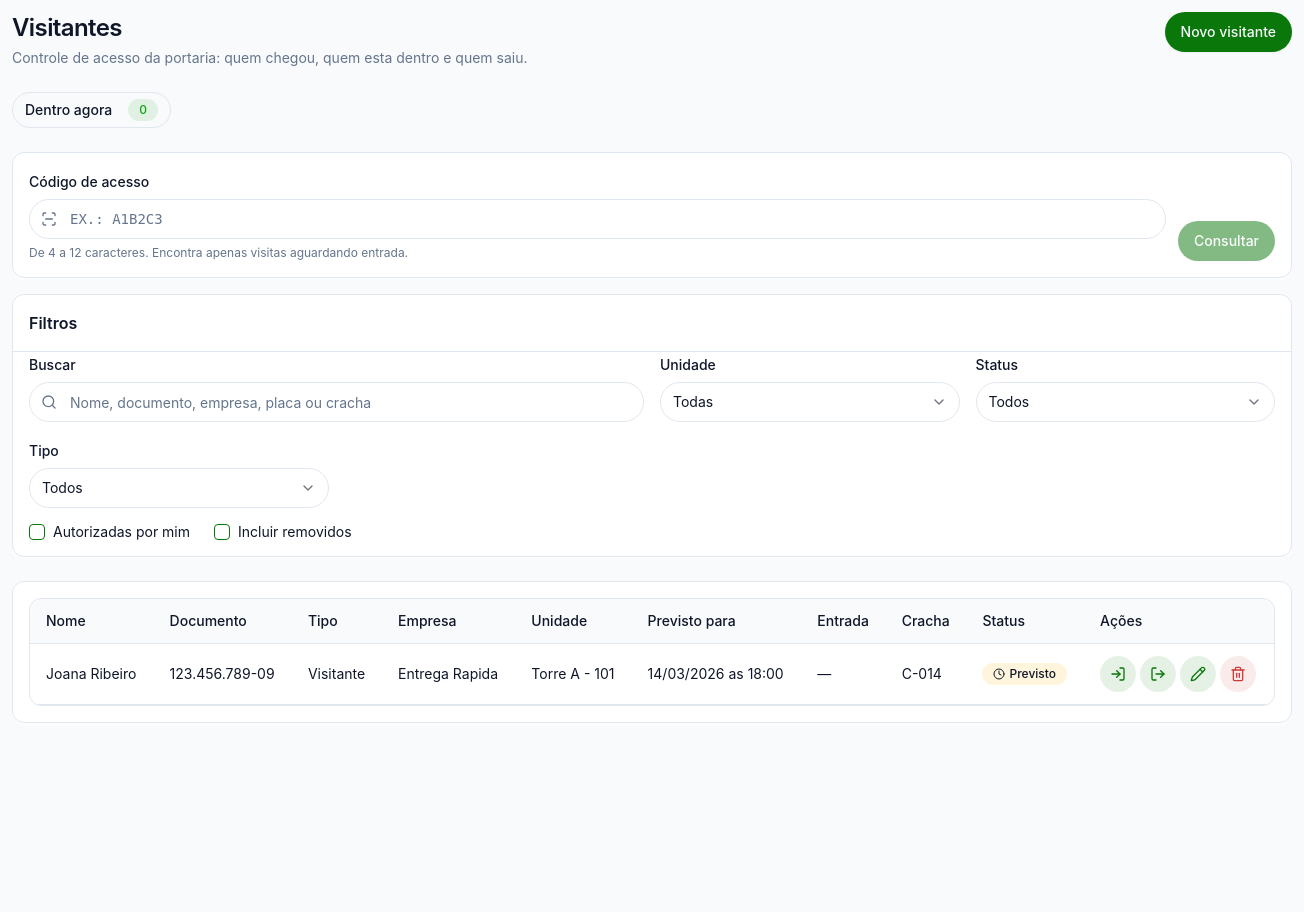
Portaria: entrada e saída › registrar entrada muda o status e a contagem de presentes acompanha
Expected: the text "Previsto" is shown, [982,663,1067,685]
Click the button named "Registrar entrada de Joana Ribeiro".
click(1118, 674)  # box [1100,656,1136,692]
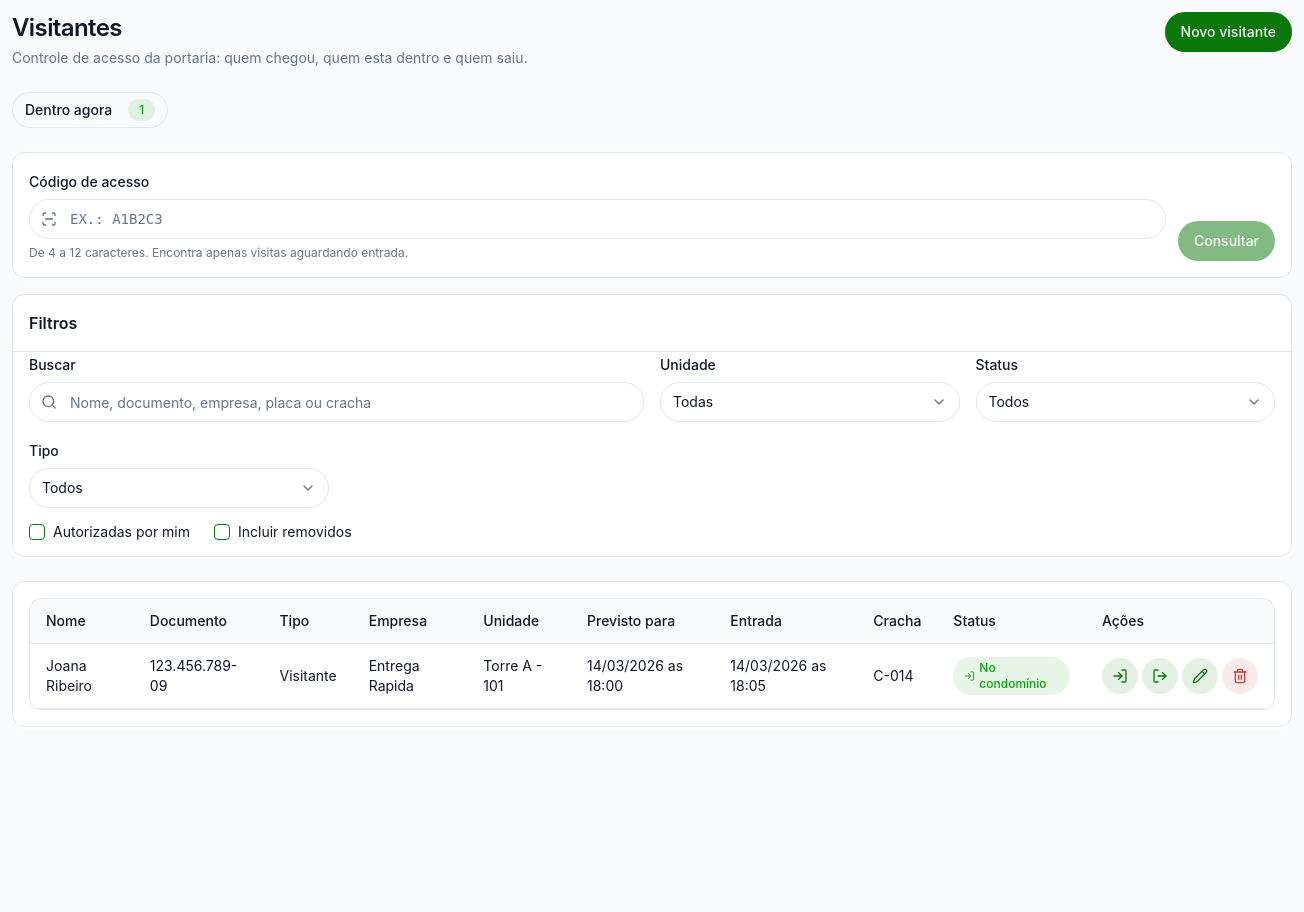
Now the text "No condomínio" is shown, box [953,657,1070,695]
